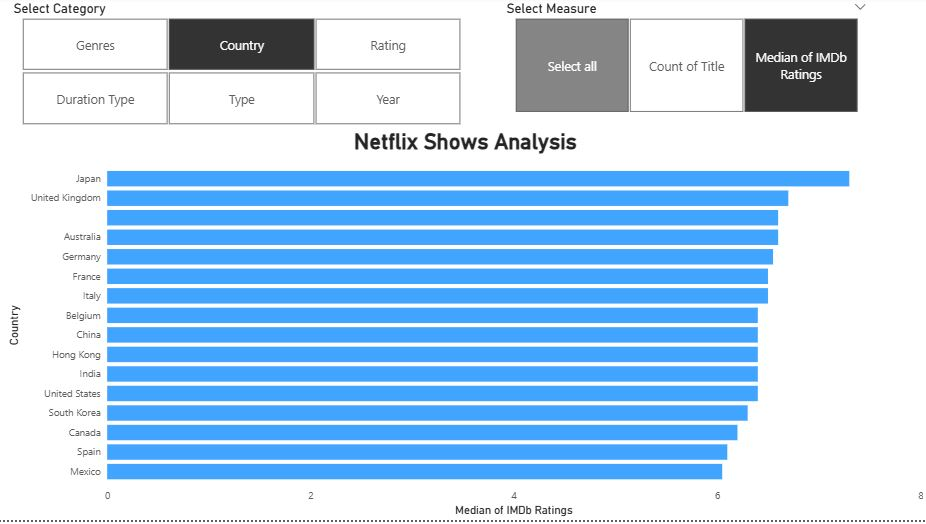

What the dashboard file says about the page in this screenshot:
{"tool":"powerbi","page":{"name":"Dashboard 1","canvas":[1280,720],"ordinal":0},"visuals":[{"type":"slicer","fields":{"Values":["Select Category.Select Category"]},"box":[9.6,0,652.4,181.7],"z":0},{"type":"clusteredBarChart","title":"Netflix Shows Analysis","fields":{"Category":["netflix_listed_in_dim.listed_in"],"Y":["_Measures.Count of Title"]},"box":[9.6,181.7,1270.4,538.2],"z":1000},{"type":"slicer","fields":{"Values":["Select Measure.Select Measure"]},"box":[688.2,0,520.3,165.2],"z":2000}]}

Visuals, with their boxes in screenshot pixels (x1, y1, x2, y2), scaled from the page's 1280x720 canvas onto the 926x524 screenshot:
slicer - Select Category.Select Category: l=7, t=0, r=479, b=132
"Netflix Shows Analysis" clusteredBarChart: l=7, t=132, r=925, b=523
slicer - Select Measure.Select Measure: l=498, t=0, r=874, b=120
